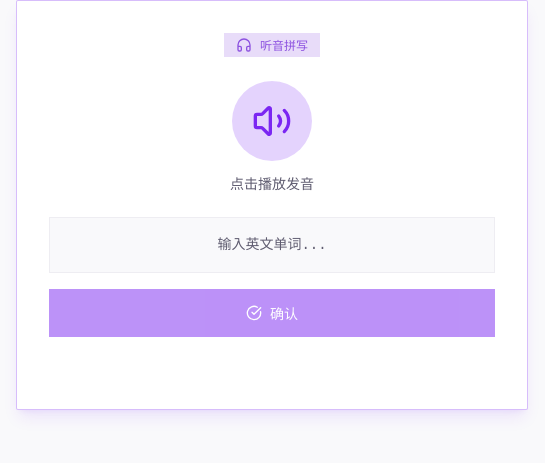
服务器判定答题 › 发音加载失败仍上报健康，DAC 切屏监控不中断
This screenshot has width=545, height=463.
Click the button named "播放发音" at (272, 121), box [232,81,312,161]
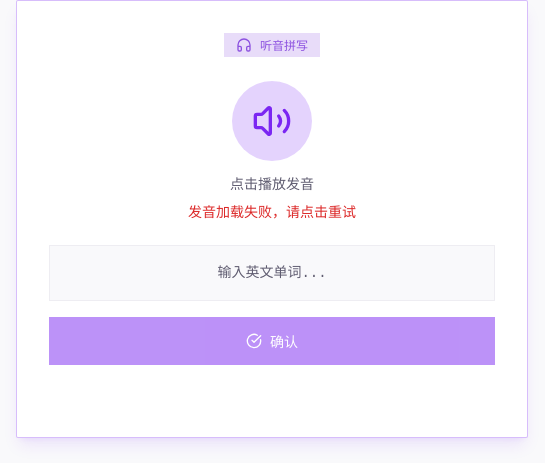
Now the message "发音加载失败，请点击重试" is shown, box [188,201,356,221]
